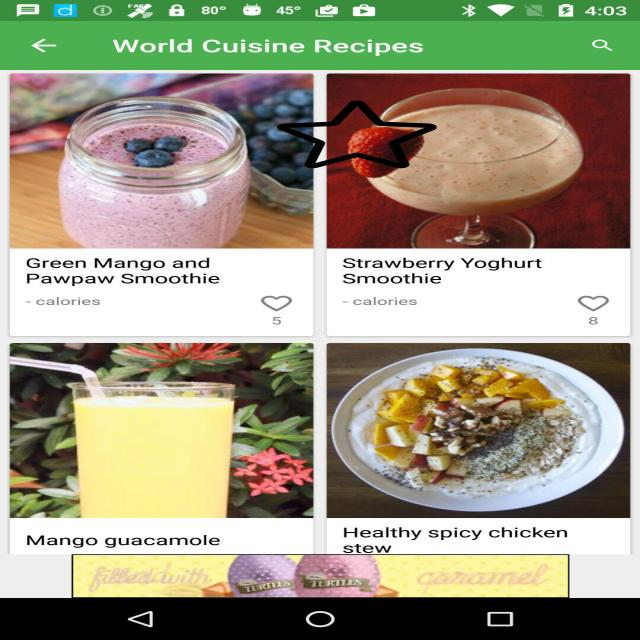forced continuity: (277, 99, 437, 170)
